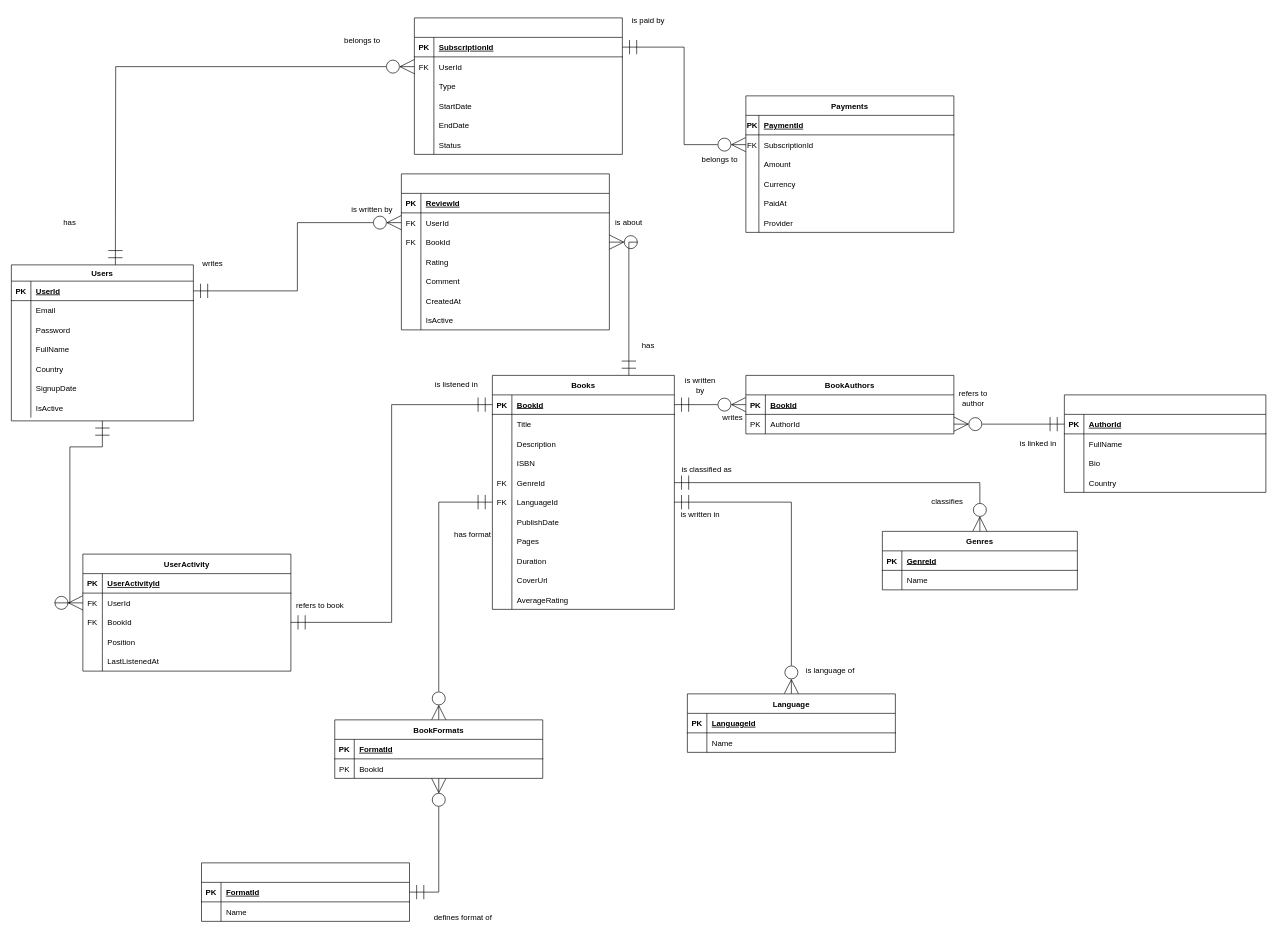
The diagram is 1277 pixels wide and 939 high, and some of its shapes have lost their labels. Here are the shapes that lost their labels. From the top down, the box of each, then its label:
(414, 17, 622, 154): Subscriptions
(401, 173, 609, 330): Reviews
(1064, 394, 1266, 492): Authors
(201, 862, 410, 921): Formats
